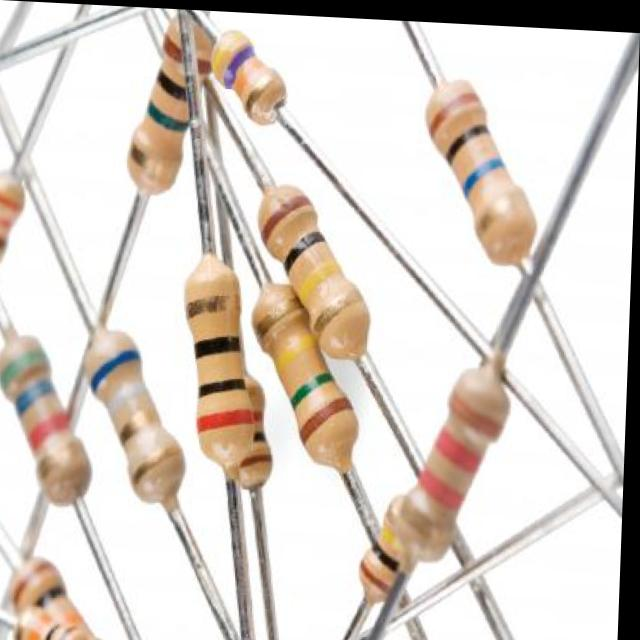Capacitor: (81, 21, 285, 640), (254, 183, 401, 599), (378, 344, 514, 579), (185, 252, 276, 490), (427, 72, 539, 264), (262, 183, 372, 358), (0, 316, 96, 508), (13, 555, 105, 640), (0, 173, 26, 268)
